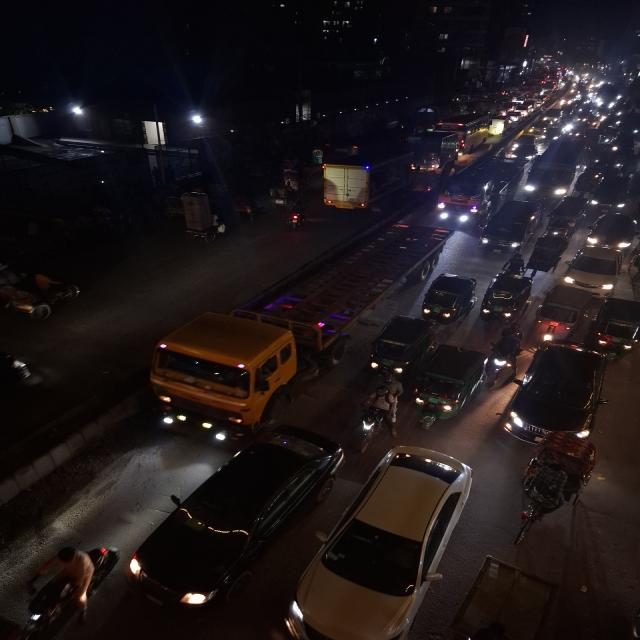bus: (457, 114, 490, 150)
car: (284, 452, 475, 640), (128, 436, 336, 601), (521, 338, 608, 446), (479, 195, 545, 256), (562, 246, 627, 291), (527, 153, 574, 198), (590, 208, 636, 252), (589, 178, 629, 210), (511, 144, 536, 161), (527, 118, 551, 134), (542, 108, 564, 123), (515, 105, 532, 117), (542, 130, 559, 141), (509, 112, 521, 122)
cng: (417, 345, 486, 430), (371, 312, 431, 374), (421, 273, 478, 333), (590, 297, 640, 362), (535, 284, 589, 342), (482, 274, 531, 328)
motorcycle: (344, 373, 403, 454), (282, 205, 308, 232)
rickshaw: (512, 433, 594, 549), (172, 194, 226, 246), (548, 197, 586, 243), (526, 234, 563, 278), (228, 192, 260, 224), (264, 184, 300, 210), (308, 148, 326, 166)
truck: (136, 307, 327, 434), (321, 152, 416, 208), (434, 172, 491, 228), (410, 133, 460, 171), (493, 116, 513, 137)
